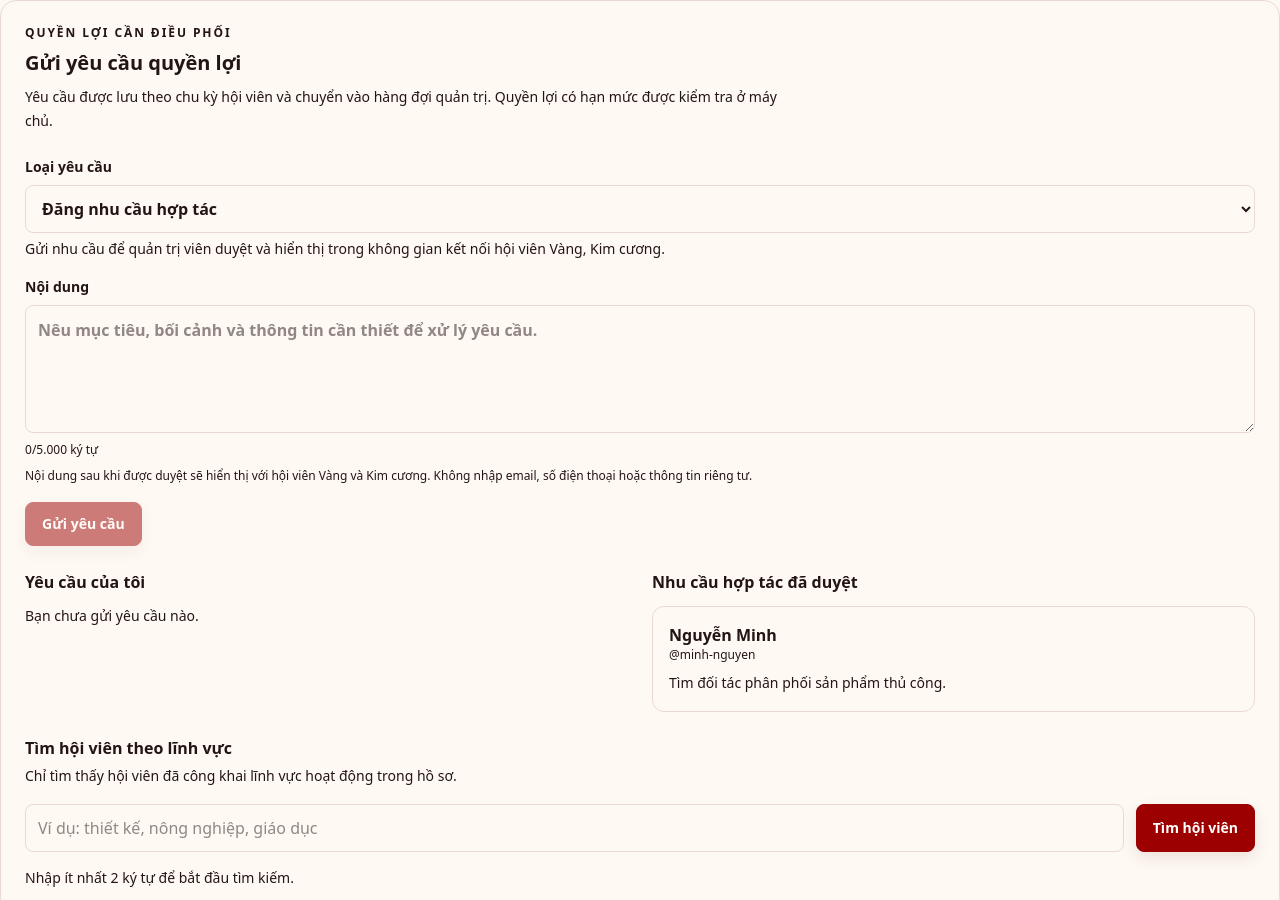
membership benefit center › searches public professional profiles for Gold members
Type "thiết kế" into the field named "Từ khóa tìm hội viên" at (574, 828), box [25,804,1124,852]
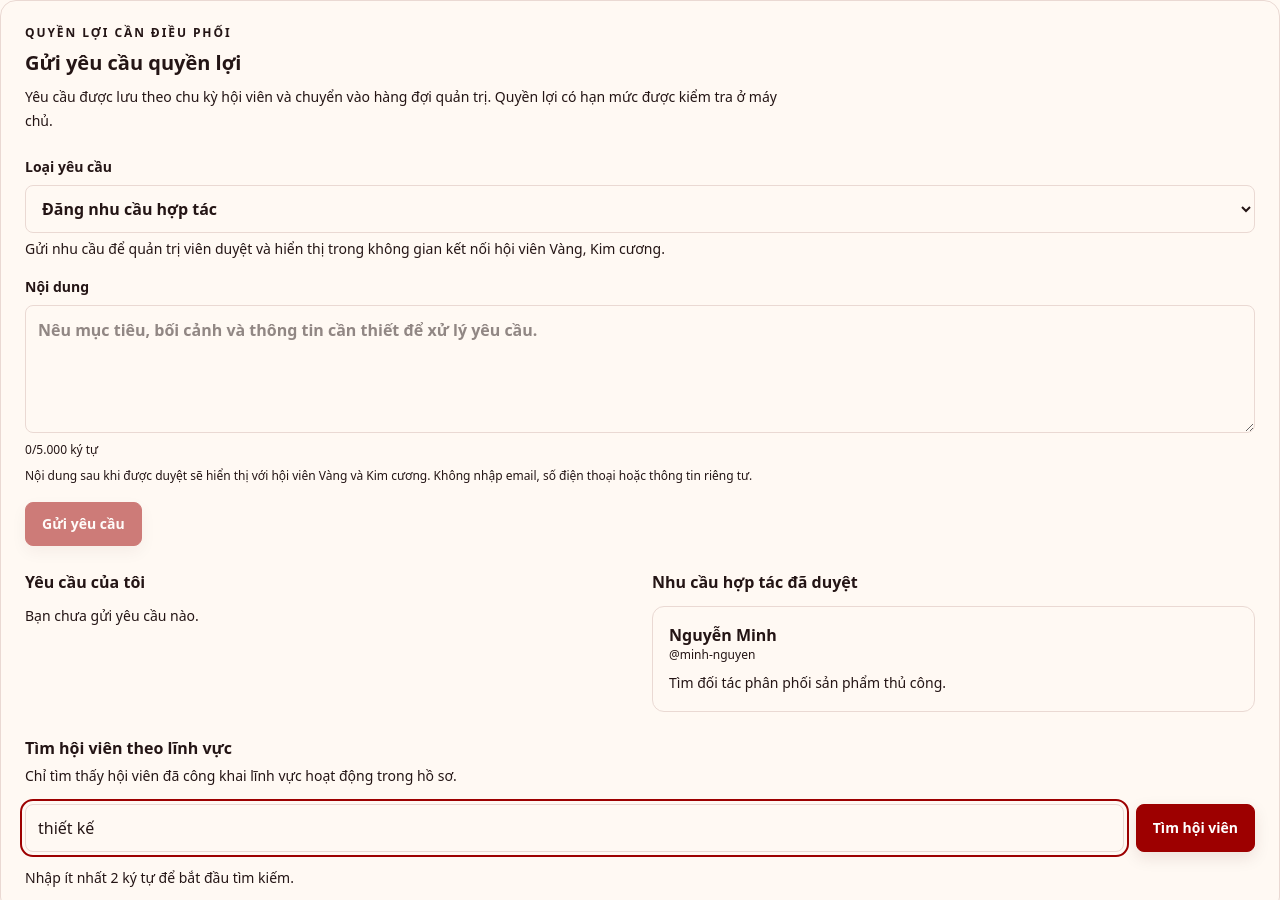
Click the button "Tìm hội viên" at (1195, 828), box [1136,804,1255,852]
(page scrolled)
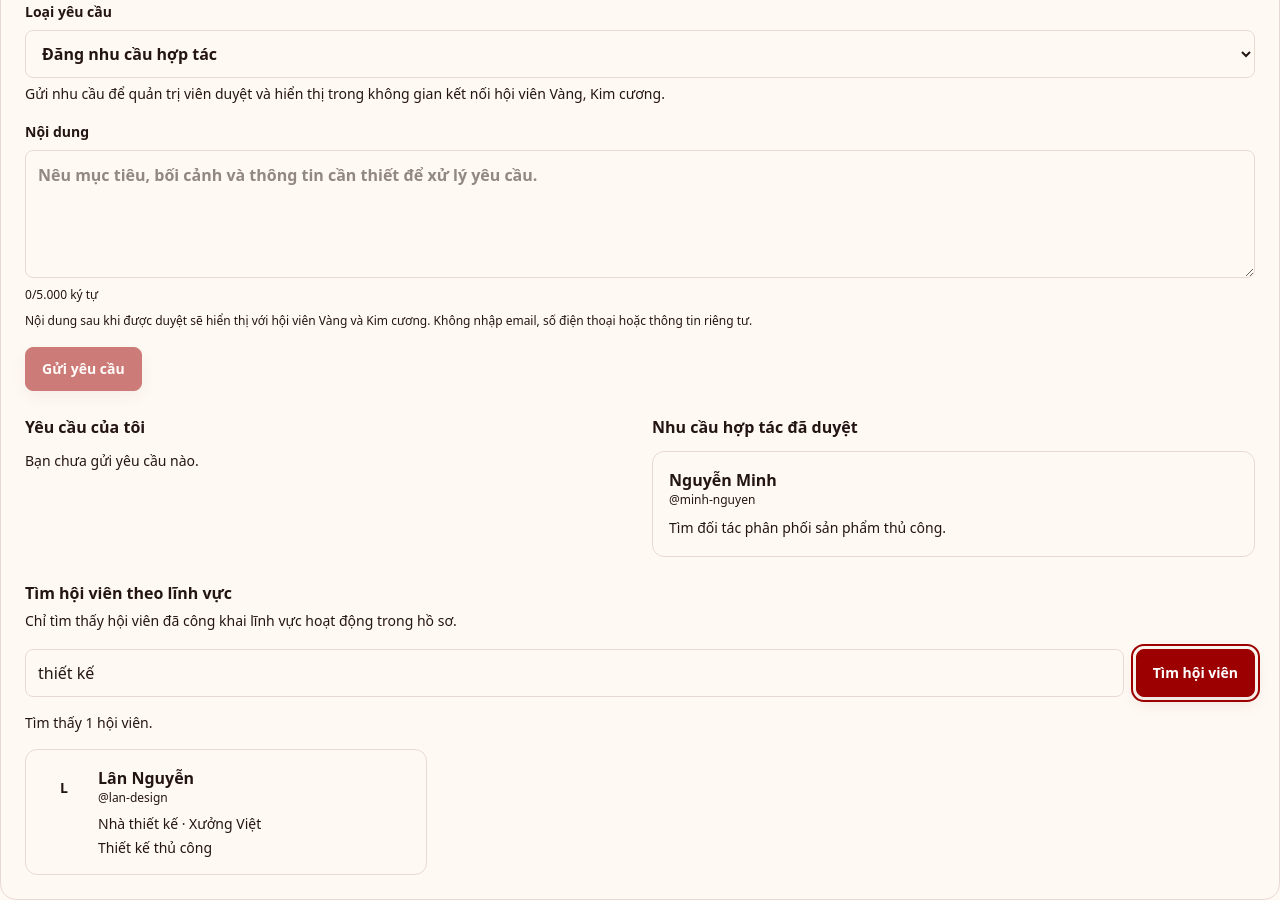
Check: the text "Lân Nguyễn" is shown, box [98,767,194,789]
Check: the text "Thiết kế thủ công" is shown, box [98,838,212,857]
